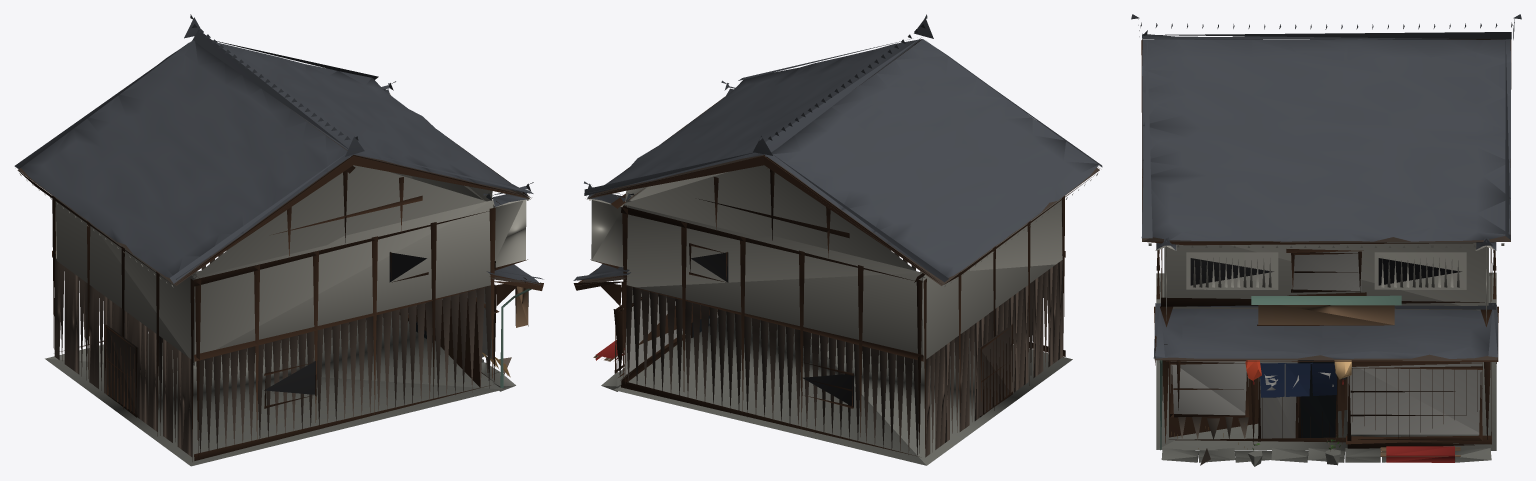
The model's file is SM_Minka_02.glb.
The picture shows the model from 3 angles, left to right: view 1: azimuth 30°, elevation 25°; view 2: azimuth 150°, elevation 25°; view 3: azimuth 270°, elevation 25°; orthographic projection. The views are drawn at different scales.
Parts seen in each view (by area): view 1: SM_Minka_02; view 2: SM_Minka_02; view 3: SM_Minka_02.
Boxes of the visible parts, left/top/right/bottom form: SM_Minka_02: left=14, top=14, right=543, bottom=466; SM_Minka_02: left=573, top=14, right=1102, bottom=465; SM_Minka_02: left=1131, top=14, right=1521, bottom=466.
Bounding box in the file's own units: 10.79 × 8.29 × 8.31.
